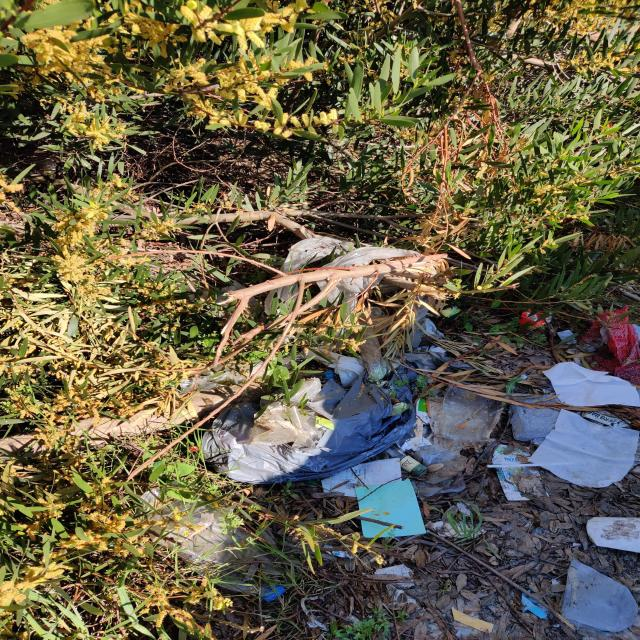litter: (200, 344, 476, 485), (300, 247, 446, 389), (135, 480, 288, 601), (264, 237, 357, 344), (527, 408, 640, 488), (172, 353, 319, 395), (560, 558, 639, 632), (245, 378, 325, 449), (581, 304, 640, 386), (541, 362, 640, 407), (355, 478, 427, 539), (436, 384, 506, 444), (348, 315, 402, 383), (491, 444, 549, 502), (321, 458, 402, 497), (205, 280, 266, 319), (412, 444, 468, 484), (586, 517, 640, 553), (410, 472, 466, 498), (395, 417, 433, 453), (450, 606, 494, 635), (430, 520, 487, 539), (373, 564, 414, 588), (575, 411, 632, 428), (521, 589, 551, 619), (388, 390, 412, 417), (518, 310, 552, 329), (399, 455, 428, 477), (323, 544, 359, 559), (433, 301, 461, 320), (383, 444, 407, 461), (416, 396, 430, 424), (316, 416, 336, 432), (556, 330, 577, 344), (455, 502, 473, 517), (486, 464, 540, 468), (391, 589, 406, 602), (455, 628, 472, 639), (531, 526, 544, 536), (323, 369, 334, 379), (406, 596, 416, 604), (189, 446, 200, 453), (520, 374, 529, 380), (551, 579, 559, 585), (552, 623, 560, 627)
